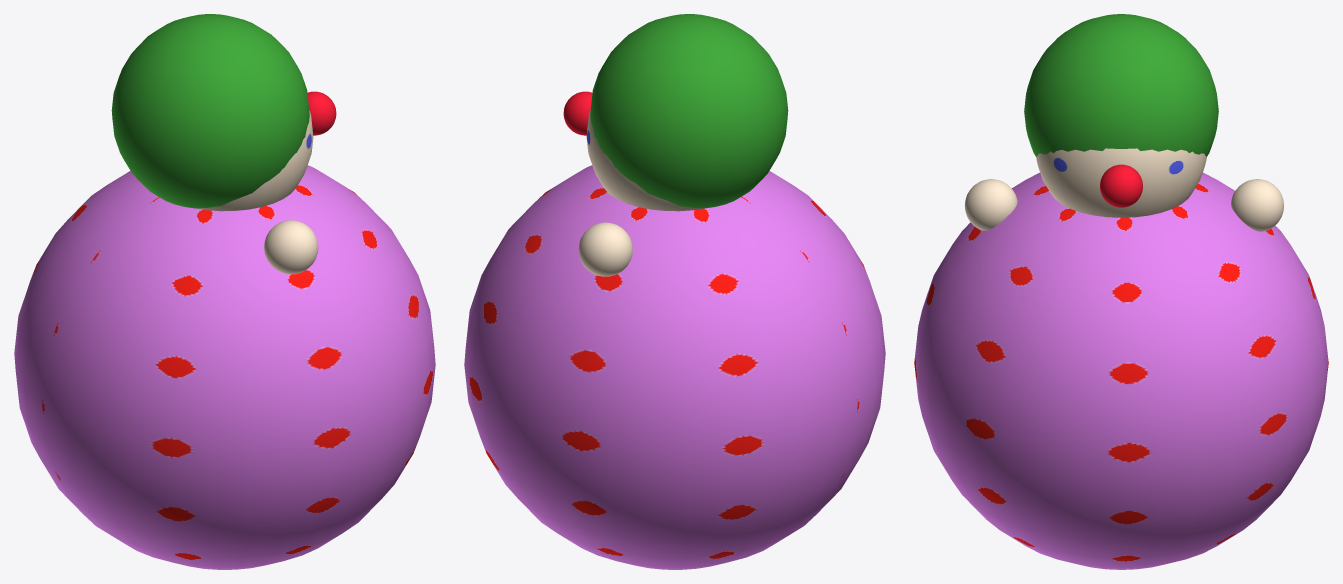
The model's file is clown_pinkreddot.gltf.
3 views of the same model, side by side, from view 1: azimuth 30°, elevation 25°; view 2: azimuth 150°, elevation 25°; view 3: azimuth 270°, elevation 25° (orthographic).
Visible parts, largest first — view 1: Clown; view 2: Clown; view 3: Clown.
Part boxes in pixels (x1,y1,x2,y2): Clown: [14, 14, 435, 569]; Clown: [464, 14, 885, 569]; Clown: [914, 14, 1328, 569].
Bounding box in the file's own units: 2 × 2.77 × 2.
Materials: 1 (1 with a texture image).
